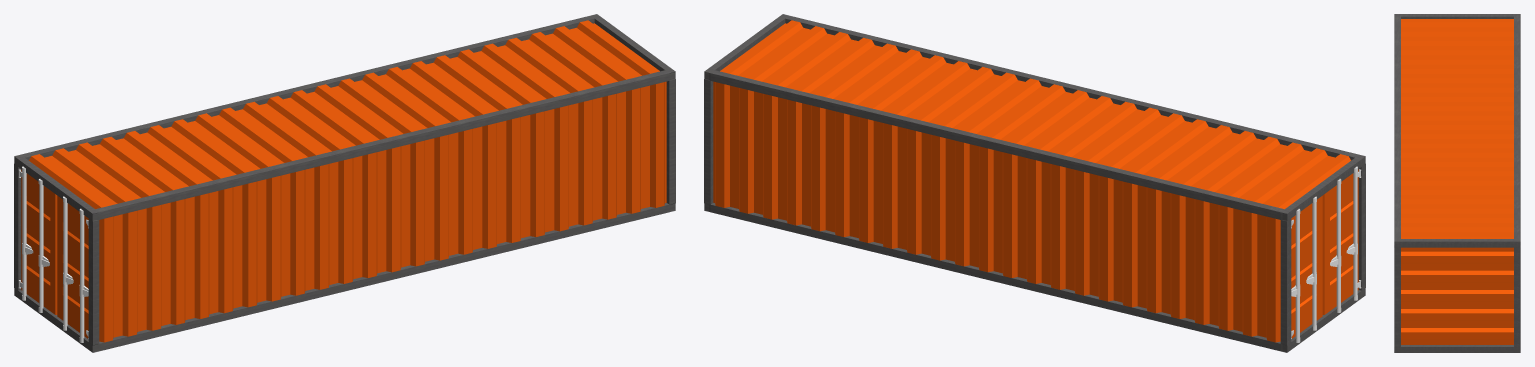
Rendered from LARANJA-container_3d.glb.
3 views of the same model, side by side, from view 1: azimuth 30°, elevation 25°; view 2: azimuth 150°, elevation 25°; view 3: azimuth 270°, elevation 25° (orthographic). The views are drawn at different scales.
Visible parts, largest first — view 1: Cube.005_5, Cube.003_7, Cube_10, Cube.008_2, Cylinder_1; view 2: Cube.004_6, Cube.003_7, Cube_10, Cube.008_2, Cylinder_1; view 3: Cube.003_7, Cube.006_4, Cube_10.
Boxes of the visible parts, <box> form: Cube.005_5: <box>99,81,666,342</box>; Cube.003_7: <box>29,20,659,209</box>; Cube_10: <box>14,14,675,352</box>; Cube.008_2: <box>21,169,88,338</box>; Cylinder_1: <box>22,166,88,342</box>; Cube.004_6: <box>713,81,1280,342</box>; Cube.003_7: <box>720,20,1350,209</box>; Cube_10: <box>704,14,1365,352</box>; Cube.008_2: <box>1291,169,1358,338</box>; Cylinder_1: <box>1291,166,1357,342</box>; Cube.003_7: <box>1401,19,1513,238</box>; Cube.006_4: <box>1401,247,1513,344</box>; Cube_10: <box>1394,14,1520,352</box>.
Bounding box in the file's own units: 20.08 × 4.56 × 4.68.
Materials: 4 (1 with a texture image).
